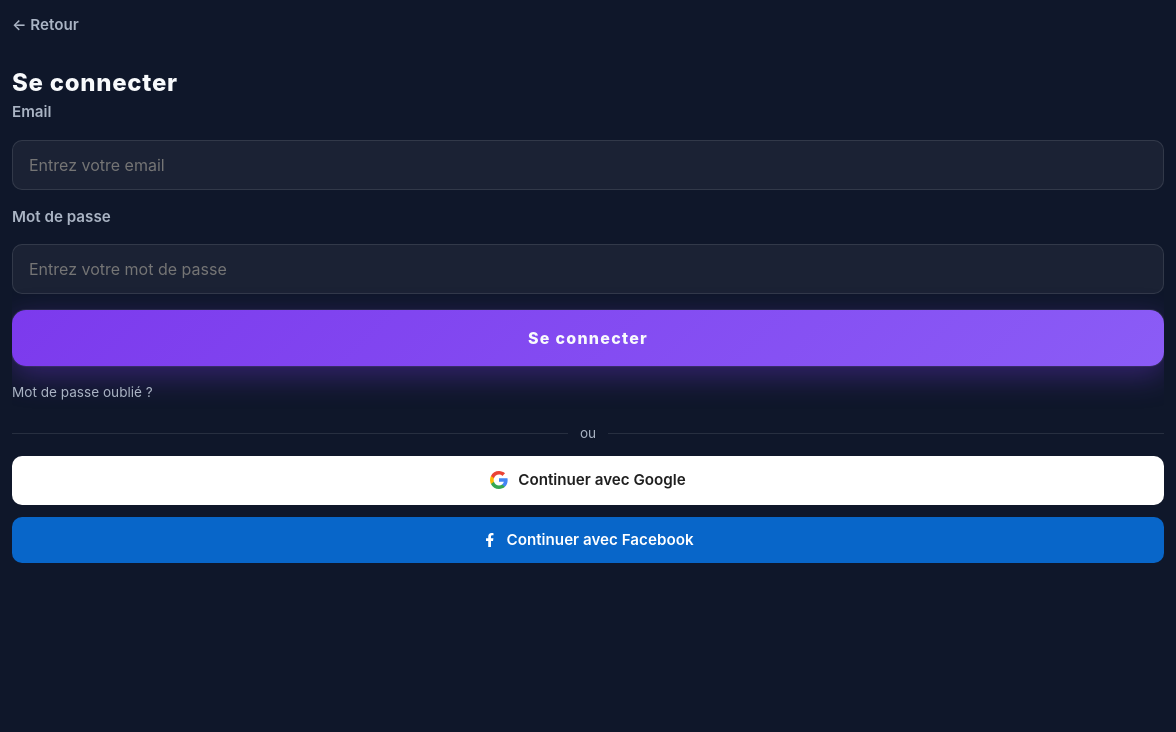
Test: LoginForm › affiche le message d'erreur du serveur si login échoue et ne navigue pas
Type "test@lexora.fr" into the field labelled "Email" at x=588, y=165, box [12,140,1164,190]
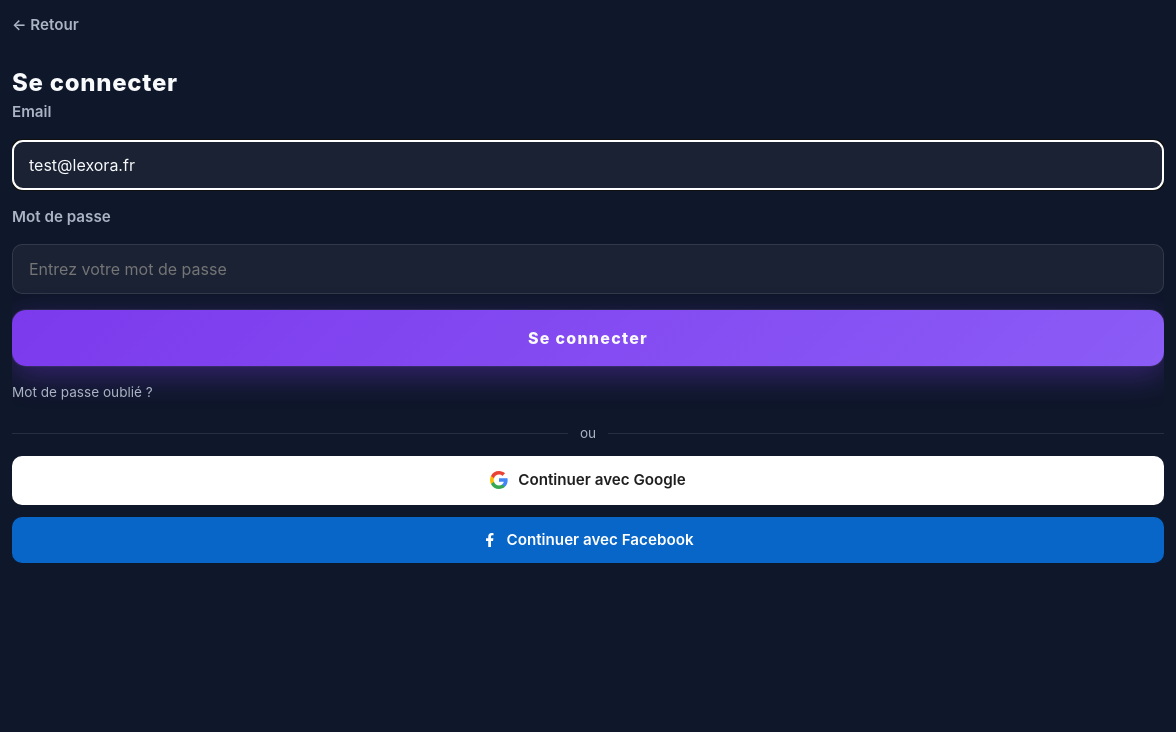
Type "mauvais" into the password field labelled "Mot de passe" at x=588, y=269, box [12,244,1164,294]
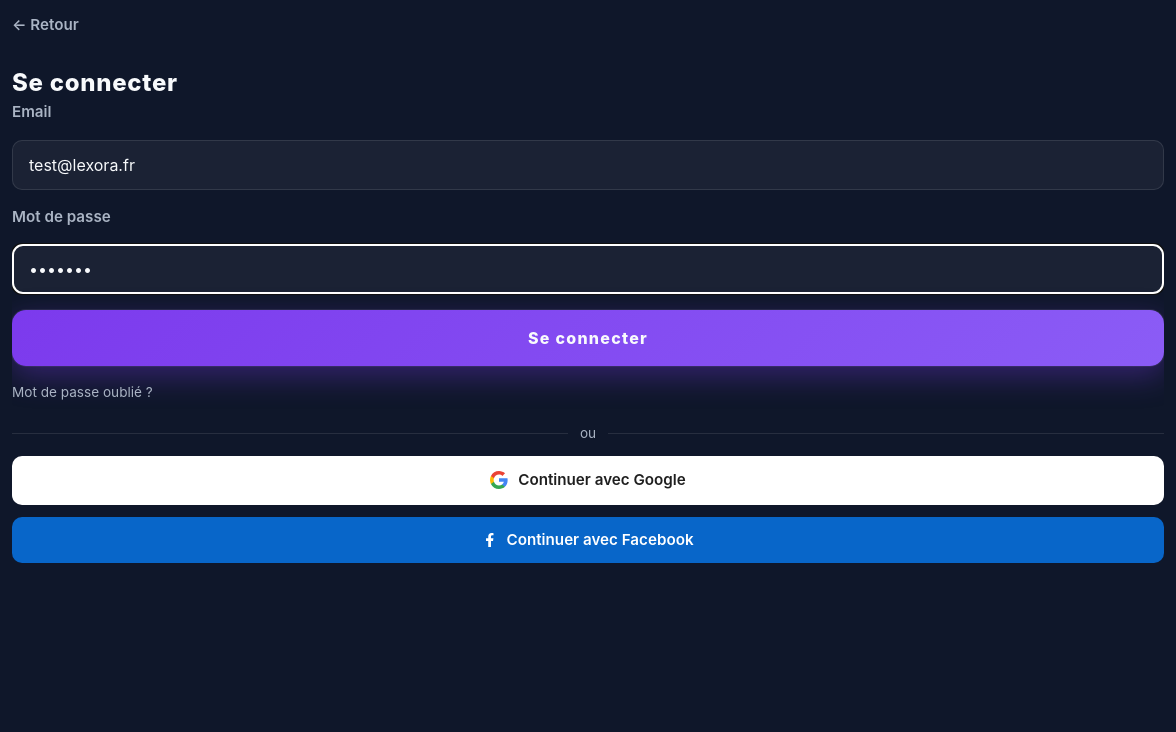
Click the button "Se connecter" at x=588, y=338, box [12,310,1164,366]
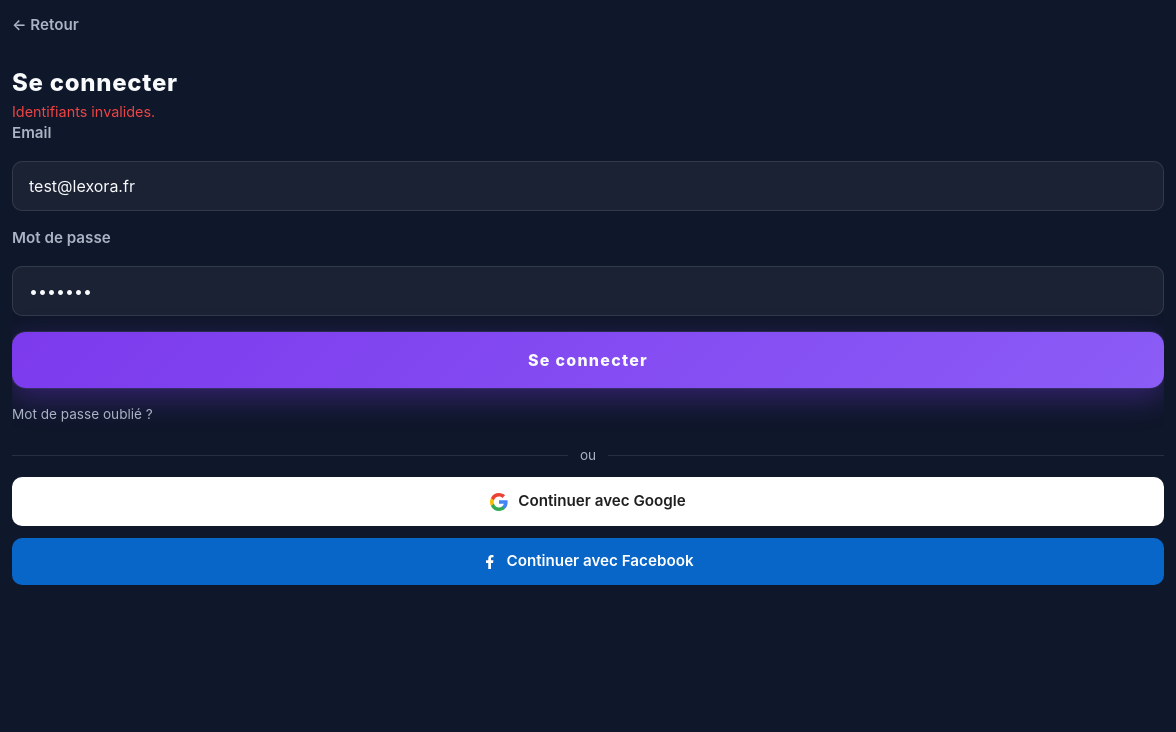
Result: the message reads "Identifiants invalides." at [12,103,155,120]
